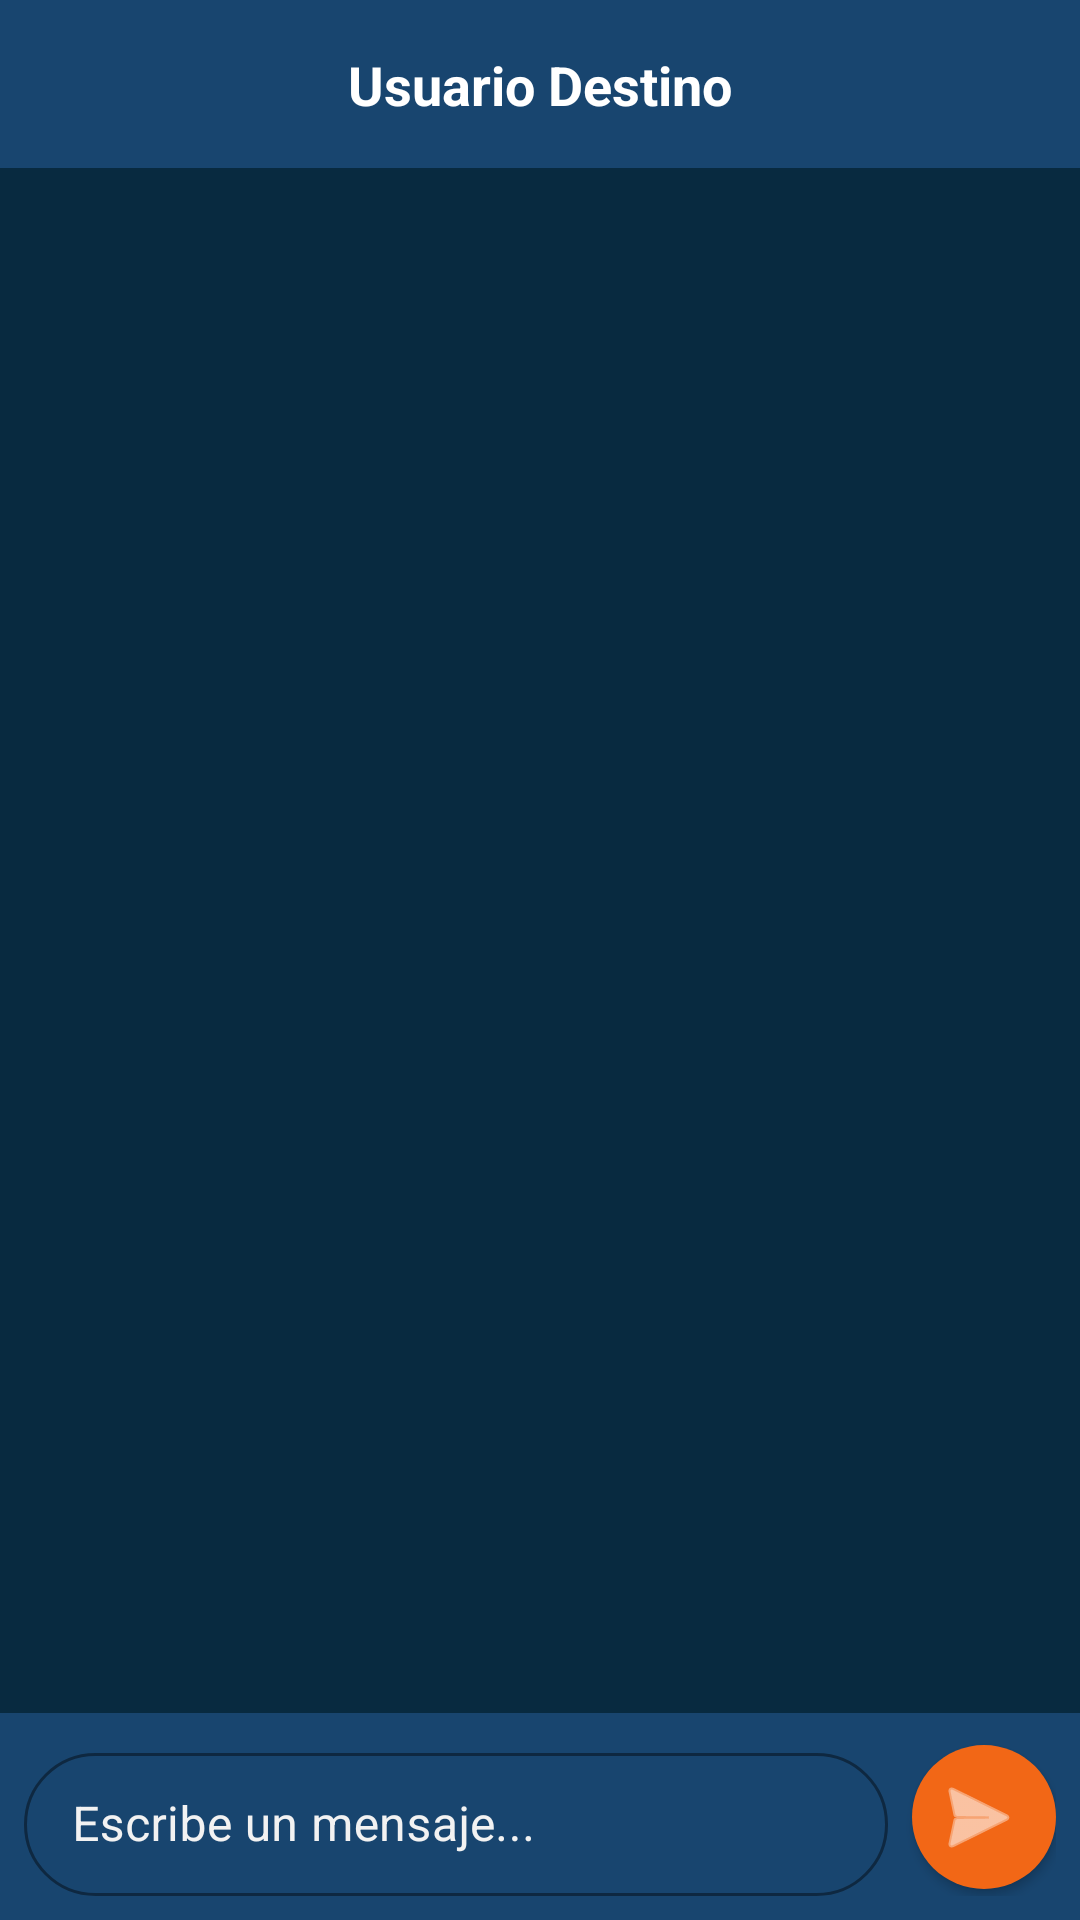

Where icons sit on this 1080x1920 app screen, as {"left": x1, "top": y1, "right": x2, "bottom": y2}:
send: {"left": 912, "top": 1745, "right": 1056, "bottom": 1889}
